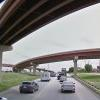Car: (17, 78, 46, 99)
